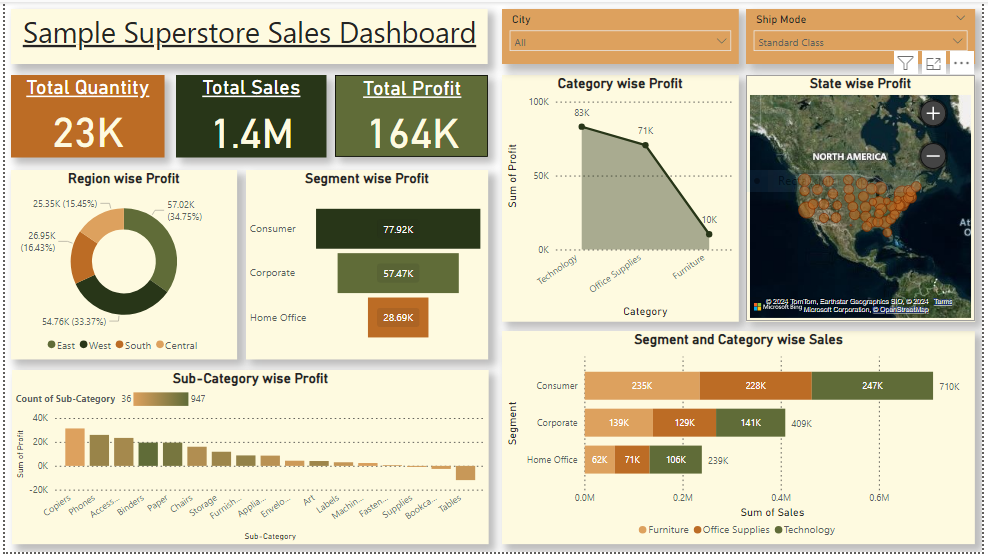

This screenshot's page, from the dashboard's own definition file:
{"tool":"powerbi","page":{"name":"Dashboard","canvas":[1280,720],"ordinal":1},"visuals":[{"type":"textbox","box":[7.9,9.2,624.4,72],"z":0},{"type":"card","title":"Total Quantity","fields":{"Values":["Sum(SampleSuperstore.Quantity)"]},"box":[7.8,95.6,201.1,107.8],"z":1000},{"type":"card","title":"Total Sales","fields":{"Values":["Sum(SampleSuperstore.Sales)"]},"box":[223.2,95,197.3,108],"z":2000},{"type":"card","title":"Total Profit","fields":{"Values":["Sum(SampleSuperstore.Profit)"]},"box":[432,95.6,200.3,107.3],"z":3000},{"type":"donutChart","title":"Region wise Profit","fields":{"Category":["SampleSuperstore.Region"],"Y":["Sum(SampleSuperstore.Profit)"]},"box":[7.8,220,295.6,247.8],"z":4000},{"type":"funnel","title":" Segment wise Profit","fields":{"Category":["SampleSuperstore.Segment"],"Y":["Sum(SampleSuperstore.Profit)"]},"box":[315.4,220.3,316.8,247.7],"z":5000},{"type":"areaChart","title":"Category wise Profit","fields":{"Category":["SampleSuperstore.Category"],"Y":["Sum(SampleSuperstore.Profit)"]},"box":[650.9,95,309.6,322.6],"z":6000},{"type":"clusteredColumnChart","title":" Sub-Category wise Profit","fields":{"Category":["SampleSuperstore.Sub-Category"],"Y":["Sum(SampleSuperstore.Profit)"]},"box":[9.2,481.7,624.4,227.8],"z":7000},{"type":"slicer","fields":{"Values":["SampleSuperstore.City"]},"box":[650.6,9.2,310.3,72],"z":8000},{"type":"slicer","fields":{"Values":["SampleSuperstore.Ship Mode"]},"box":[970,9.2,299.8,72],"z":9000},{"type":"barChart","title":"Segment and Category wise Sales","fields":{"Category":["SampleSuperstore.Segment"],"Y":["Sum(SampleSuperstore.Sales)"],"Series":["SampleSuperstore.Category"]},"box":[650.9,430.6,619.2,279.4],"z":10000},{"type":"map","title":" State wise Profit","fields":{"Category":["SampleSuperstore.State"],"Size":["Sum(SampleSuperstore.Profit)"]},"box":[970.6,95,299.5,322.6],"z":11000}]}

Visuals, with their boxes in screenshot pixels (x1, y1, x2, y2), scaled from the page's 1280x720 canvas onto the 988x559 screenshot:
textbox: 6:7:488:63
"Total Quantity" card: 6:74:161:158
"Total Sales" card: 172:74:325:158
"Total Profit" card: 333:74:488:158
"Region wise Profit" donutChart: 6:171:234:363
" Segment wise Profit" funnel: 243:171:488:363
"Category wise Profit" areaChart: 502:74:741:324
" Sub-Category wise Profit" clusteredColumnChart: 7:374:489:551
slicer - SampleSuperstore.City: 502:7:742:63
slicer - SampleSuperstore.Ship Mode: 749:7:980:63
"Segment and Category wise Sales" barChart: 502:334:980:551
" State wise Profit" map: 749:74:980:324
